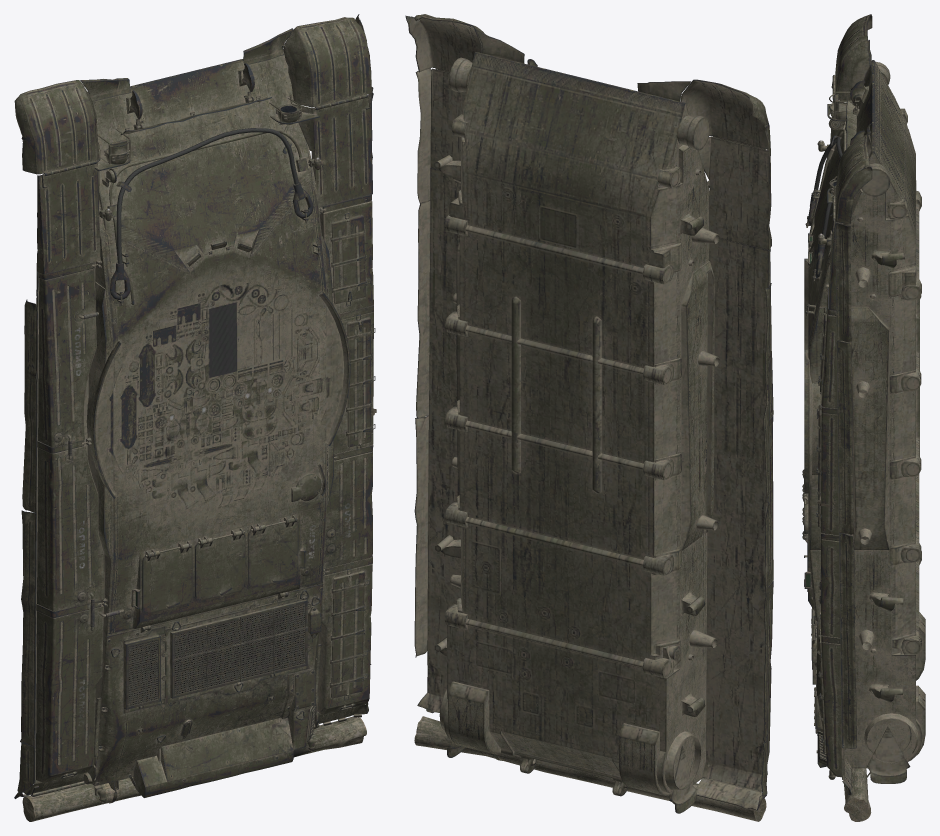
Rendered from Hull.glb.
3 views of the same model, side by side, from view 1: azimuth 30°, elevation 25°; view 2: azimuth 150°, elevation 25°; view 3: azimuth 270°, elevation 25° (orthographic). The views are drawn at different scales.
Visible parts, largest first — view 1: set_0_group_0; view 2: set_0_group_0; view 3: set_0_group_0.
Part boxes in pixels (x1,y1,x2,y2): set_0_group_0: [14, 14, 376, 821]; set_0_group_0: [405, 14, 773, 821]; set_0_group_0: [802, 14, 925, 821].
Size of the model in its own units: 3.43 by 6.84 by 1.15.
Materials: 1 (1 with a texture image).
